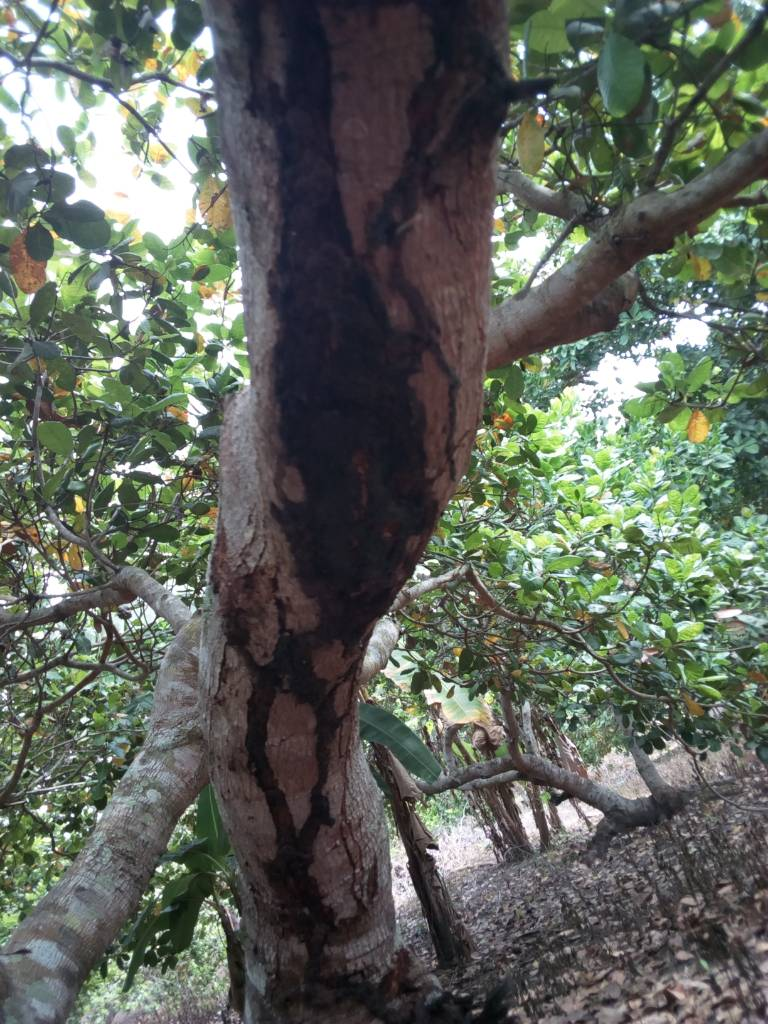Termites: (255, 55, 466, 628), (240, 646, 375, 978)
